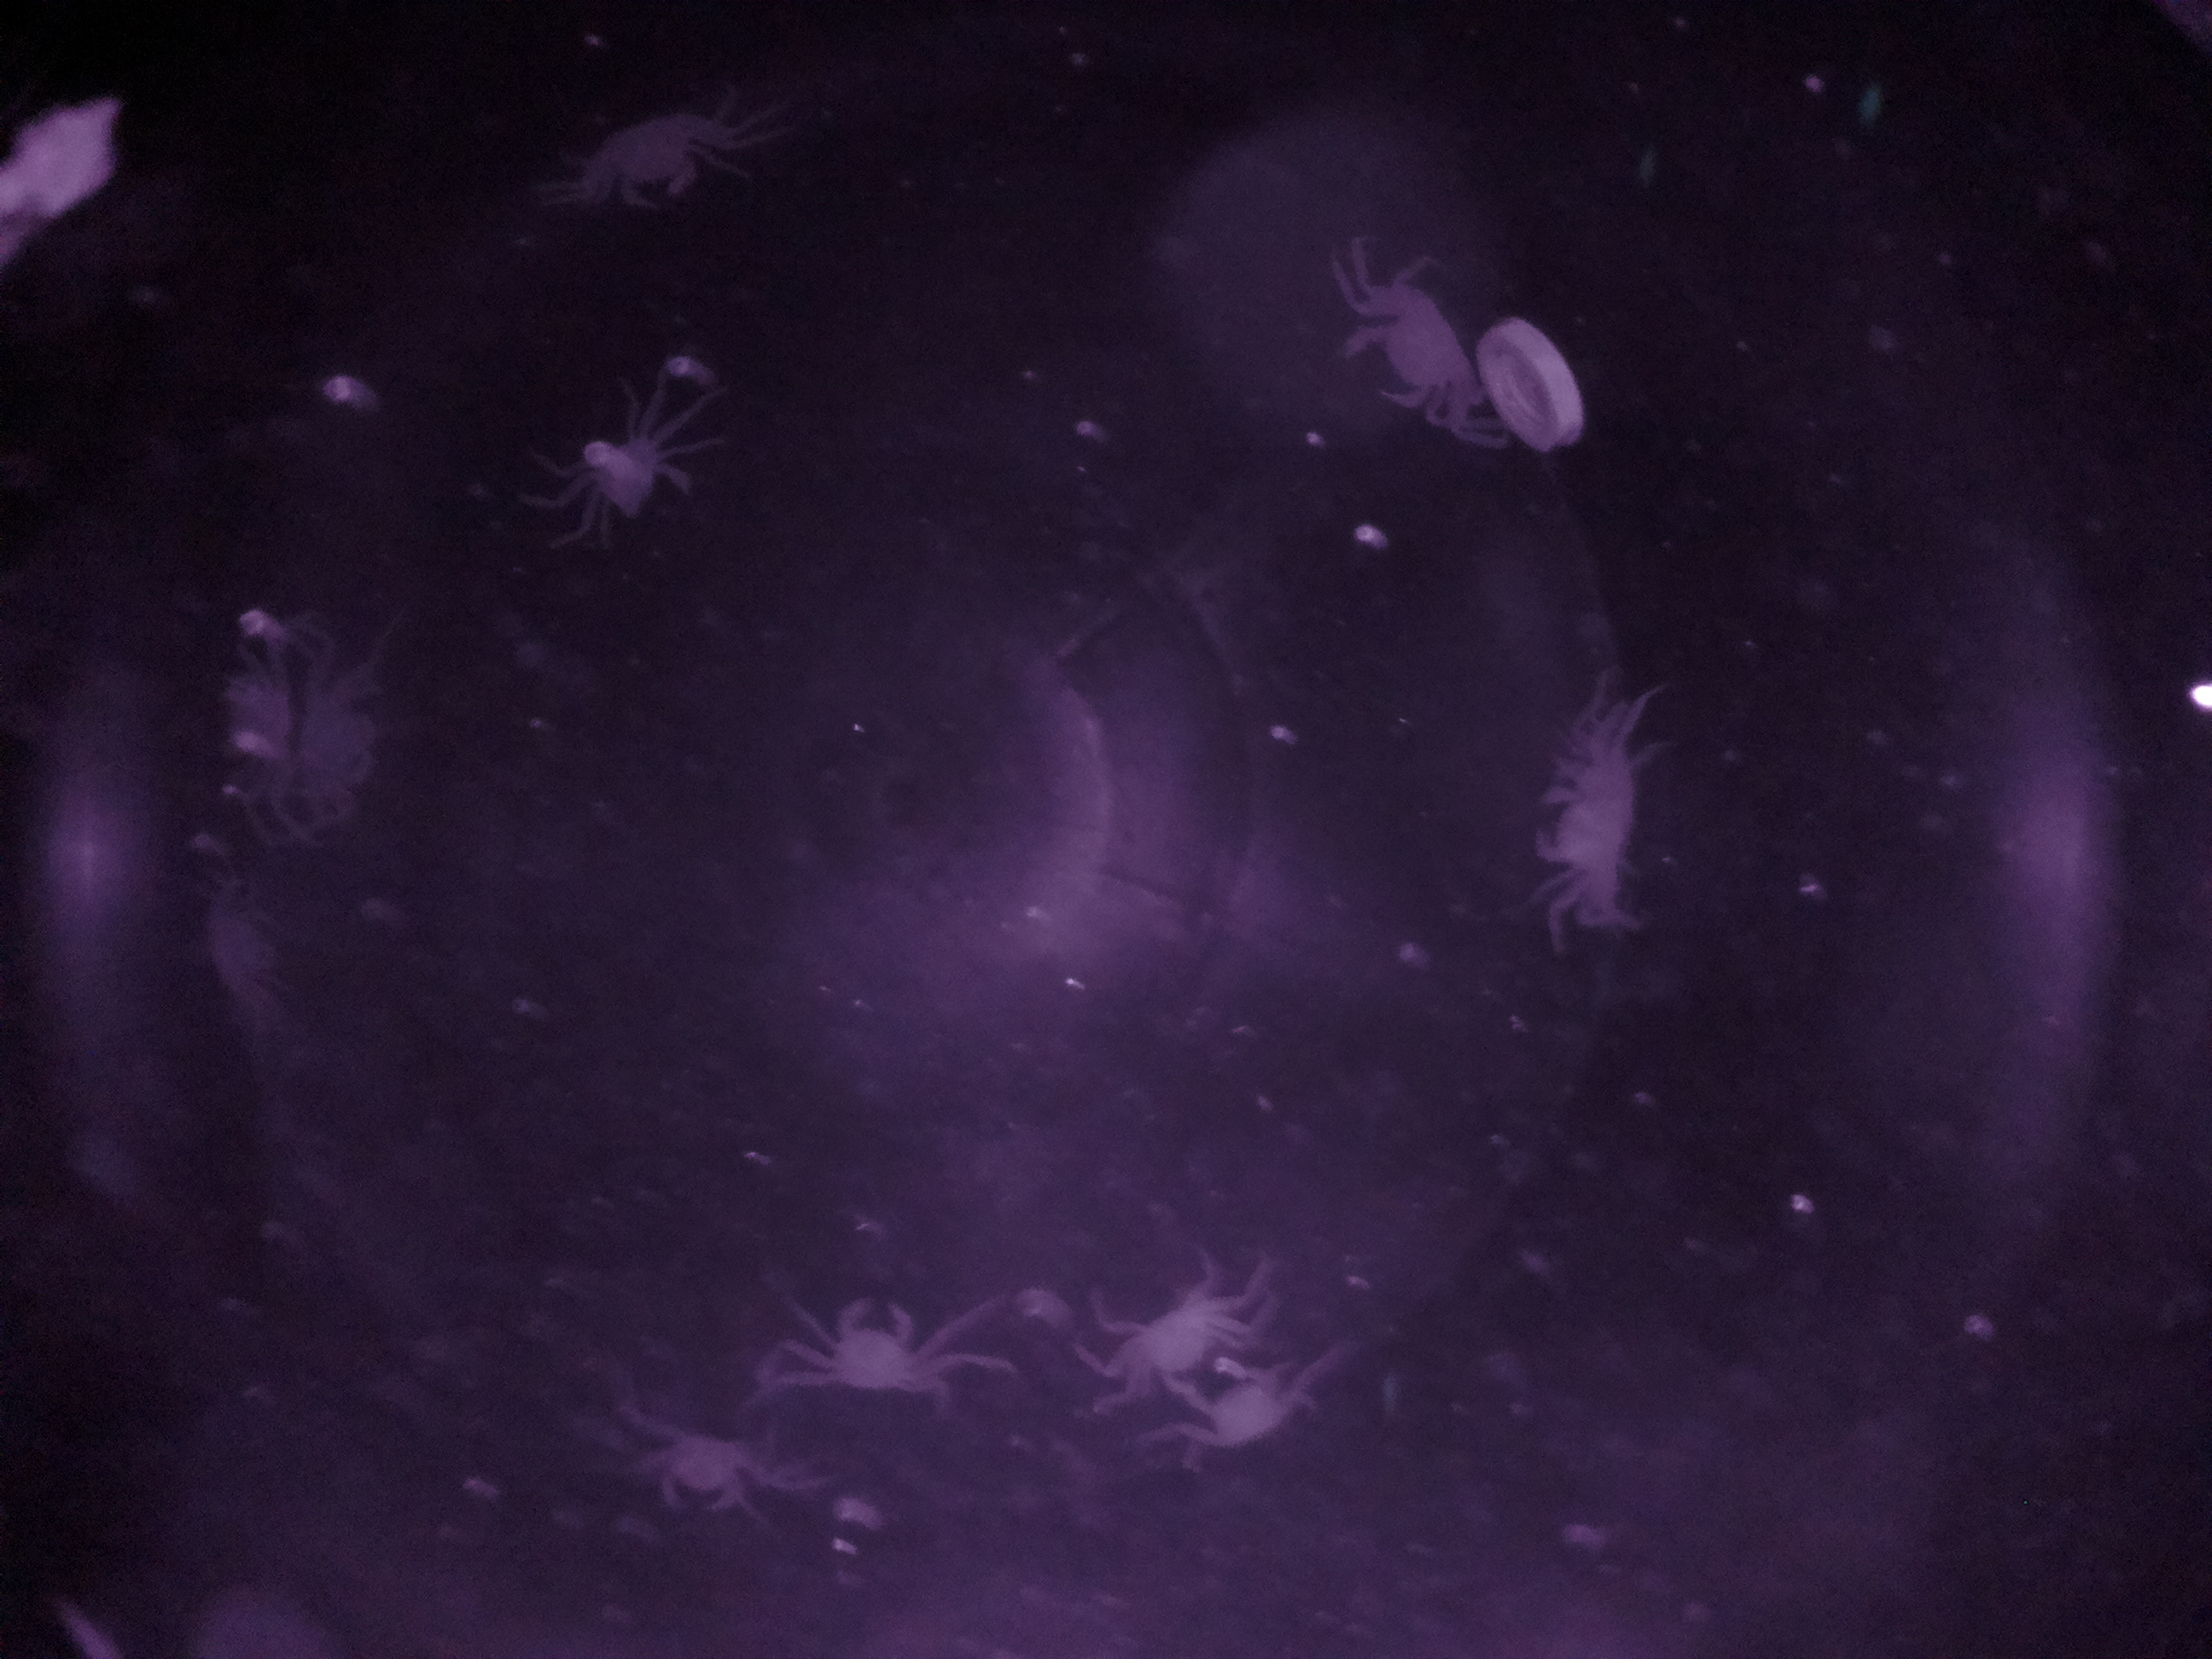Crab: (1325, 244, 1505, 437), (601, 1396, 791, 1551), (791, 1262, 954, 1422)
